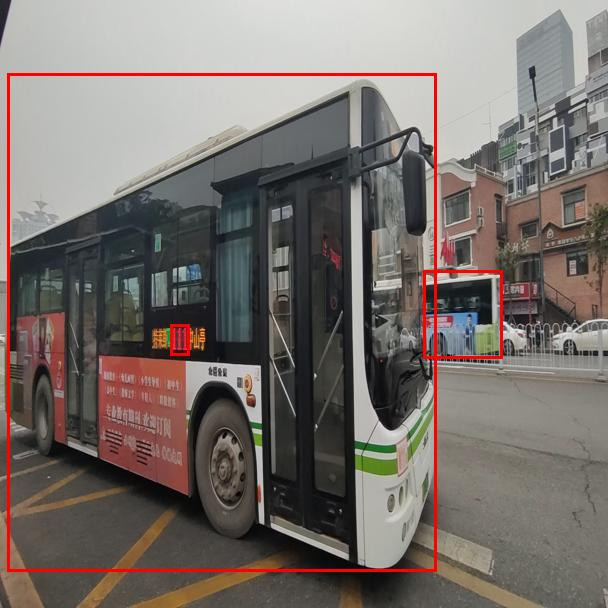bus: (7, 73, 436, 571), (423, 270, 502, 358)
screen: (170, 324, 189, 355)
